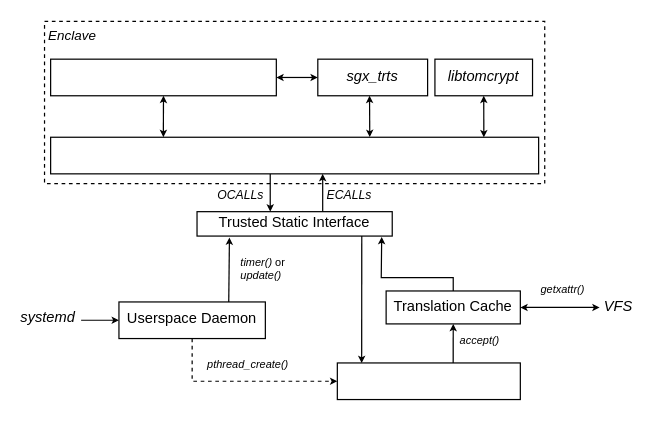
Image size: 654x421. Some labels were removed from this diagram. The shapes that lost their labels are listed below. From the top down, each one's box as (x1, y1, x2, y2) in pixels, then its label:
(49, 58, 276, 96): Policy Module
(49, 136, 539, 174): Enforcement Library
(336, 362, 520, 400): UNIX Domain Socket
